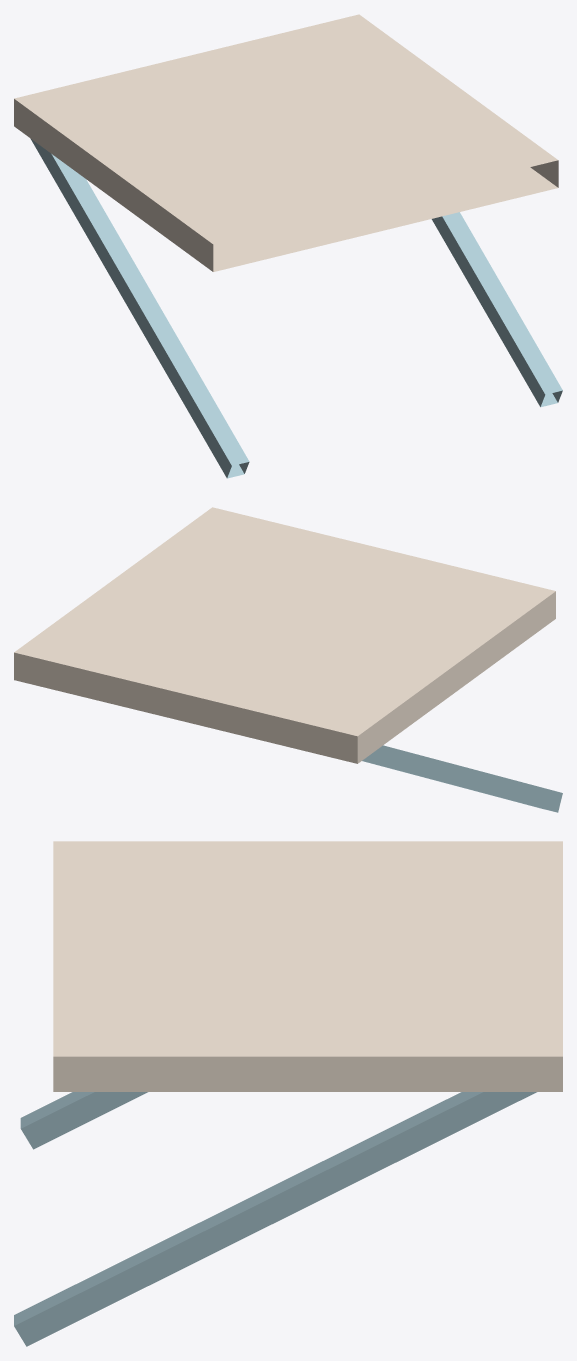
Rendered from shelf_room.fbx.
The picture shows the model from 3 angles, top to bottom: view 1: azimuth 30°, elevation 25°; view 2: azimuth 150°, elevation 25°; view 3: azimuth 270°, elevation 25°; orthographic projection. The views are drawn at different scales.
Visible parts, largest first — view 1: Shelf.004; view 2: Shelf.004; view 3: Shelf.004.
Boxes of the visible parts, <box> form: Shelf.004: <box>14,14,562,478</box>; Shelf.004: <box>14,507,562,812</box>; Shelf.004: <box>14,841,562,1346</box>.
Bounding box in the file's own units: 0.3914 × 0.2518 × 0.4217.
